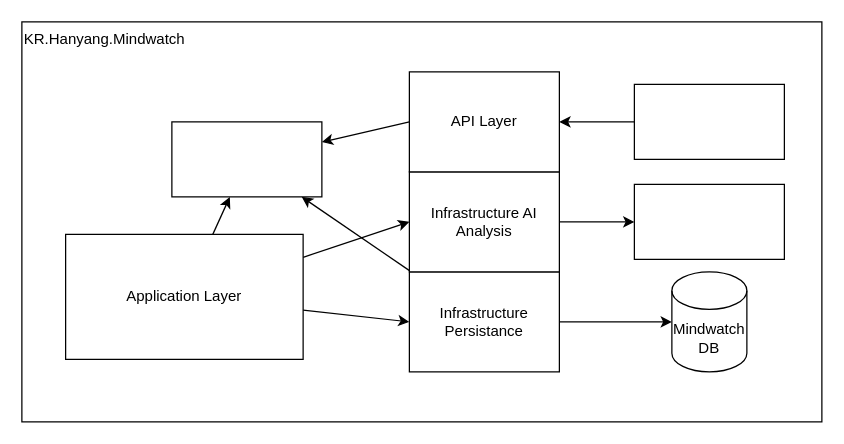
Image size: 844x444. Some labels were removed from this diagram. The centre of each missing label's shape, as x and y in pixels:
AI Model API: point 708,221
Domain Layer: point 246,159
Frontend Project: point 708,121
